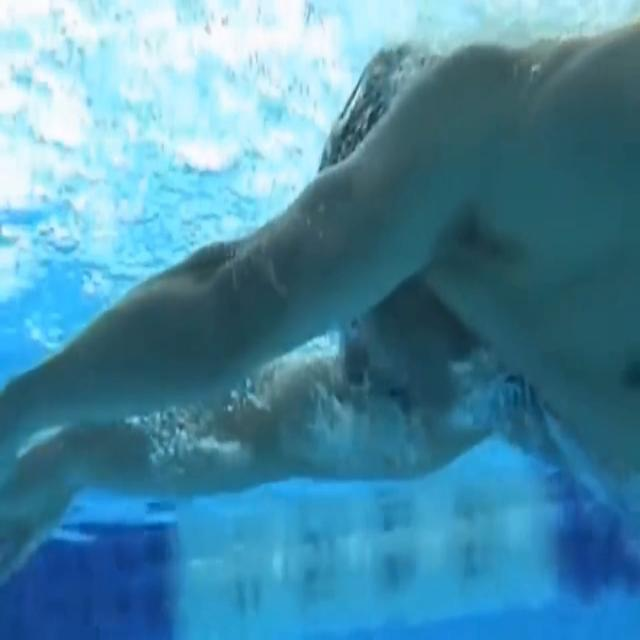Swimming: (0, 46, 640, 586)
